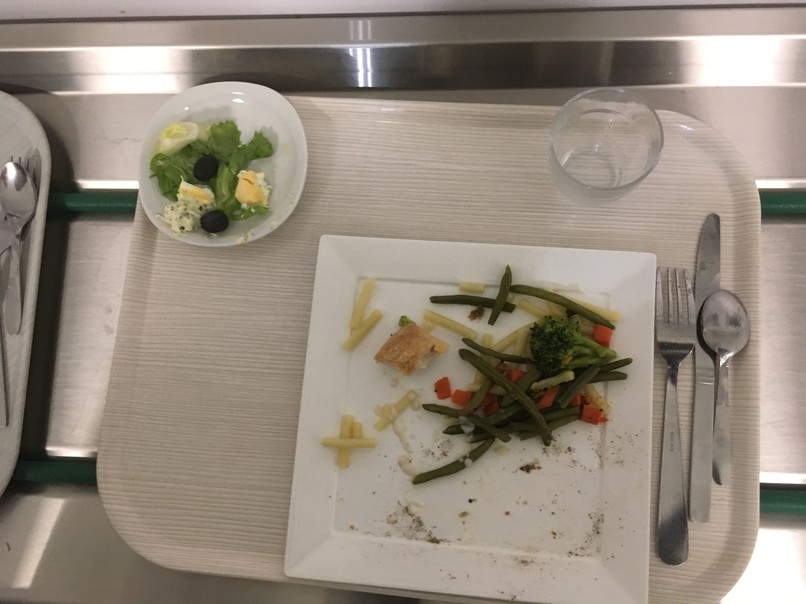cup: (530, 69, 670, 204)
cutlery: (651, 264, 693, 579), (687, 207, 724, 531), (699, 282, 754, 497)
orga: (448, 280, 620, 458), (149, 114, 287, 229), (381, 318, 439, 374), (334, 415, 370, 473)
